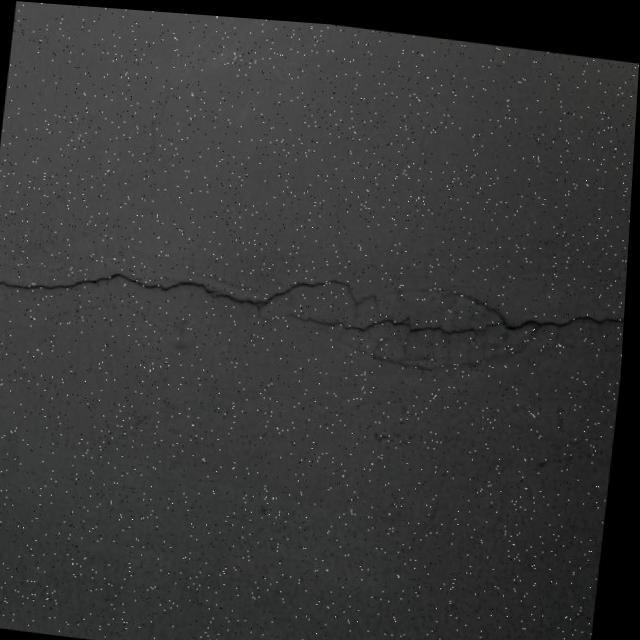Crack: (0, 210, 630, 392)
